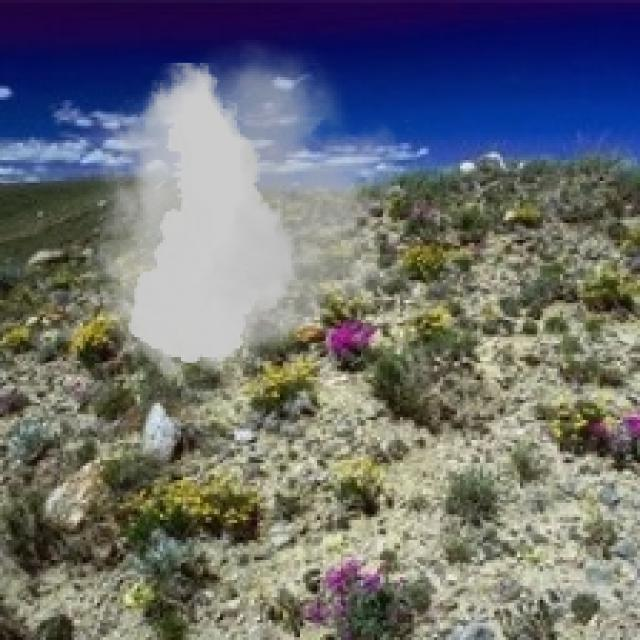Smoke: (72, 40, 417, 386)
